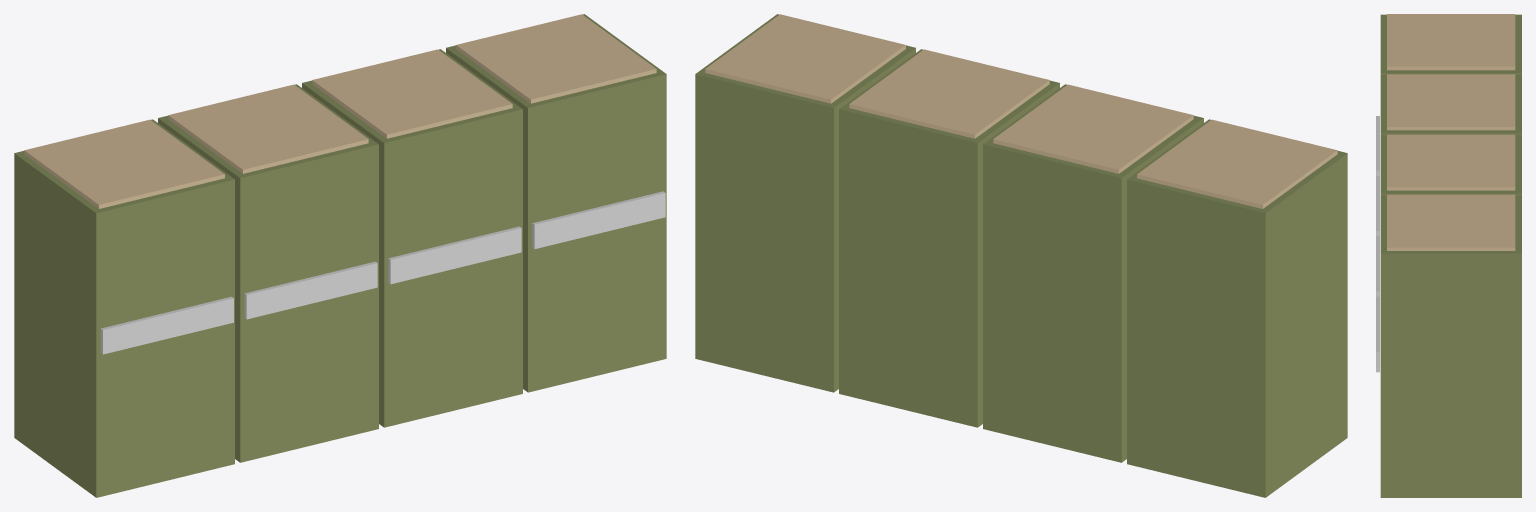
The model's file is SM_HescoCorto4_v0_MallaLimpia_e0_Sano_LOD1.fbx.
The picture shows the model from 3 angles, left to right: view 1: azimuth 30°, elevation 25°; view 2: azimuth 150°, elevation 25°; view 3: azimuth 270°, elevation 25°; orthographic projection. The views are drawn at different scales.
Visible parts, largest first — view 1: SM_hesco_piezas_v100_LOD1; view 2: SM_hesco_piezas_v100_LOD1; view 3: SM_hesco_piezas_v100_LOD1.
Boxes of the visible parts, x1=… form: SM_hesco_piezas_v100_LOD1: x1=14, y1=14, x2=666, y2=497; SM_hesco_piezas_v100_LOD1: x1=695, y1=14, x2=1347, y2=497; SM_hesco_piezas_v100_LOD1: x1=1376, y1=14, x2=1521, y2=497.
Size of the model in its own units: 4.4 by 2.13 by 1.13.
